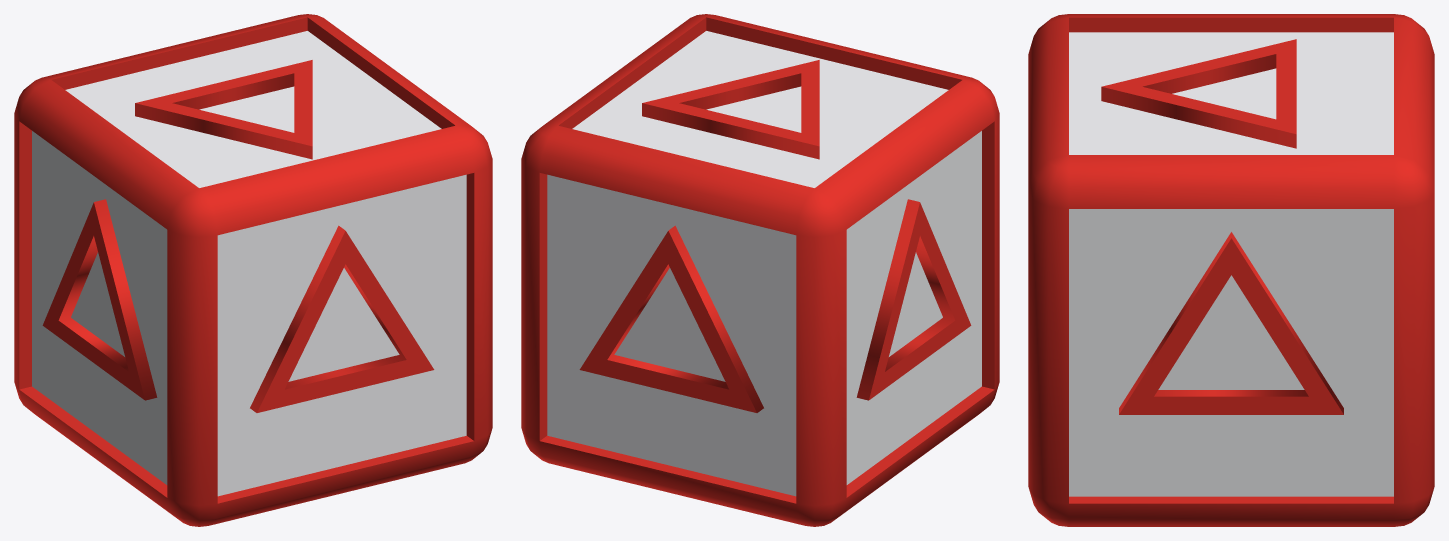
The model's file is TriangleCube.fbx.
3 views of the same model, side by side, from view 1: azimuth 30°, elevation 25°; view 2: azimuth 150°, elevation 25°; view 3: azimuth 270°, elevation 25° (orthographic). The views are drawn at different scales.
Parts seen in each view (by area): view 1: ChamferBox001; view 2: ChamferBox001; view 3: ChamferBox001.
Part boxes in pixels (x1,y1,x2,y2): ChamferBox001: (14,14,492,526); ChamferBox001: (521,14,999,526); ChamferBox001: (1028,14,1434,526).
Bounding box in the file's own units: 100 × 100 × 100.
Materials: 1 (1 with a texture image).
